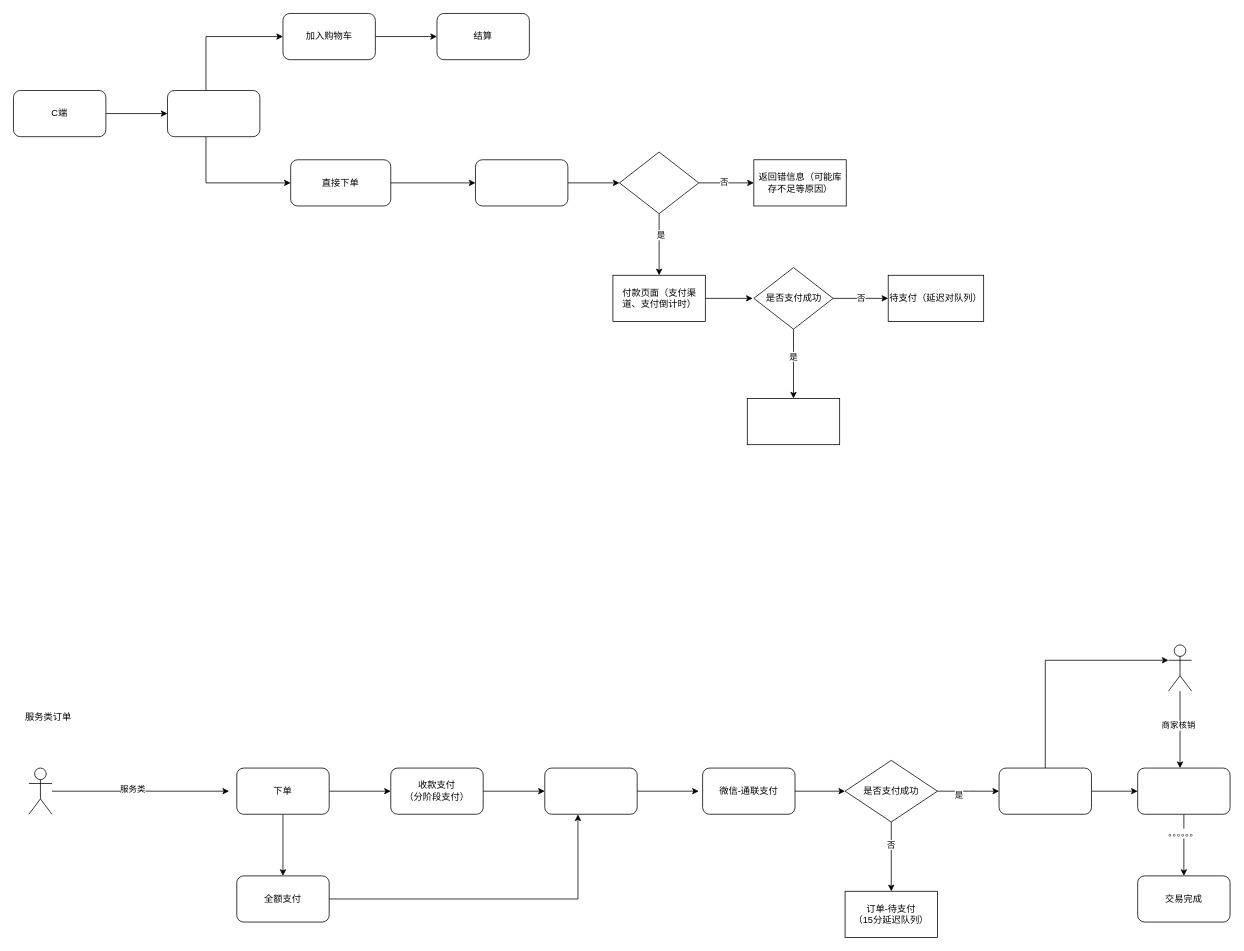
This 1244x951 diagram has some shape labels left out. Here are the shapes that lost their labels. From the top down, the centre of each, then its label:
At (x=213, y=113): "商品选择".
At (x=521, y=182): "实体类商品（下单地址选择）".
At (x=659, y=182): "创建订单是否成功".
At (x=793, y=421): "支付成功页面".
At (x=40, y=790): "Actor".
At (x=590, y=790): "创建订单".
At (x=1044, y=790): "首款已付-待核销".
At (x=1183, y=790): "中款待支付".
